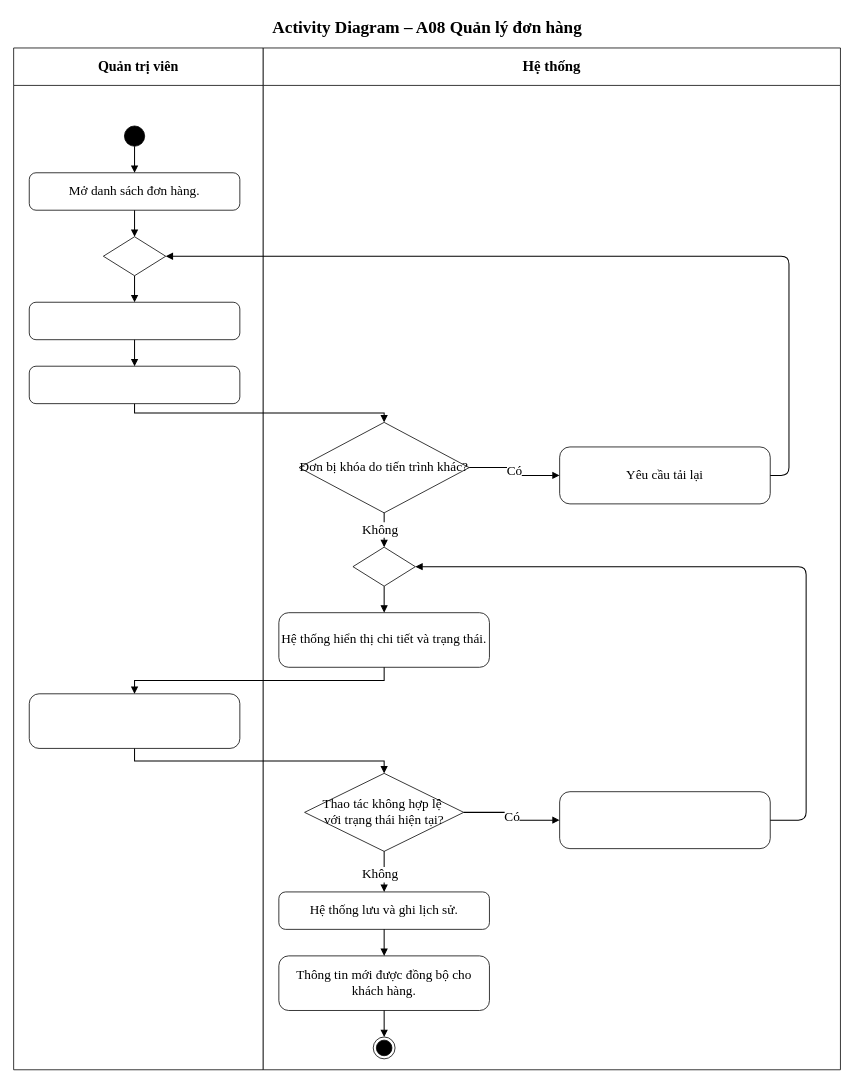
This 854x1083 diagram has some shape labels left out. Each missing label, with the box of its shape:
Chọn đơn cần xử lý.: (28, 365, 240, 404)
Lọc/tìm đơn.: (28, 301, 240, 340)
Quản trị viên thực hiện thao tác được phép.: (28, 693, 240, 748)
Từ chối thao tác: (559, 791, 770, 849)
